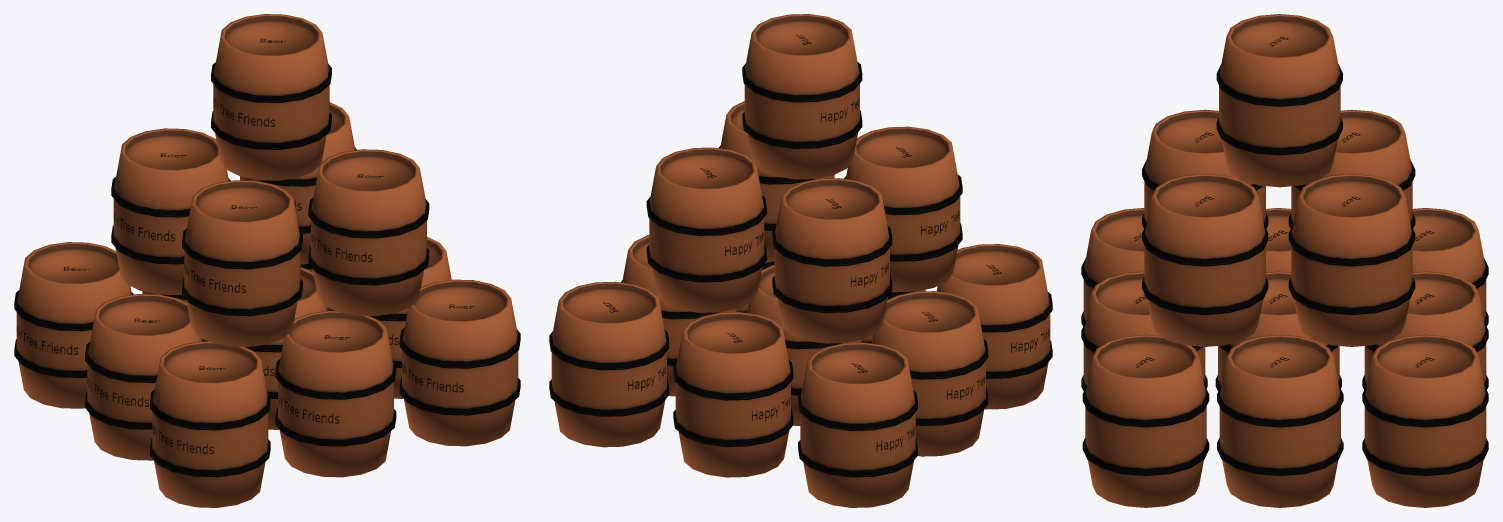
The model's file is barrel.glb.
The picture shows the model from 3 angles, left to right: view 1: azimuth 30°, elevation 25°; view 2: azimuth 150°, elevation 25°; view 3: azimuth 270°, elevation 25°; orthographic projection. The views are drawn at different scales.
Visible parts, largest first — view 1: Barrel.009_Cylinder.011, Barrel.013_Cylinder.021, Barrel.012_Cylinder.020, Barrel.006_Cylinder.008, Barrel.004_Cylinder.006, Barrel.005_Cylinder.007, Barrel.010_Cylinder.012, Barrel.007_Cylinder.009, Barrel.008_Cylinder.010, Barrel.011_Cylinder.019, Barrel_Cylinder, Barrel.003_Cylinder.005; view 2: Barrel.010_Cylinder.012, Barrel.001_Cylinder.003, Barrel.013_Cylinder.021, Barrel.002_Cylinder.004, Barrel.011_Cylinder.019, Barrel.007_Cylinder.009, Barrel.009_Cylinder.011, Barrel.008_Cylinder.010, Barrel.006_Cylinder.008, Barrel.003_Cylinder.005, Barrel_Cylinder, Barrel.012_Cylinder.020; view 3: Barrel.002_Cylinder.004, Barrel.003_Cylinder.005, Barrel.012_Cylinder.020, Barrel.013_Cylinder.021, Barrel.011_Cylinder.019, Barrel.004_Cylinder.006, Barrel.009_Cylinder.011, Barrel.001_Cylinder.003, Barrel.010_Cylinder.012, Barrel.007_Cylinder.009, Barrel.005_Cylinder.007, Barrel.006_Cylinder.008 (+2 smaller).
Boxes of the visible parts, bbox=[...] form: Barrel.009_Cylinder.011: bbox=[182, 180, 302, 346]; Barrel.013_Cylinder.021: bbox=[211, 14, 331, 180]; Barrel.012_Cylinder.020: bbox=[308, 149, 429, 315]; Barrel.006_Cylinder.008: bbox=[150, 341, 270, 507]; Barrel.004_Cylinder.006: bbox=[399, 279, 520, 446]; Barrel.005_Cylinder.007: bbox=[275, 310, 396, 477]; Barrel.010_Cylinder.012: bbox=[111, 128, 230, 294]; Barrel.007_Cylinder.009: bbox=[14, 242, 133, 408]; Barrel.008_Cylinder.010: bbox=[85, 294, 201, 460]; Barrel.011_Cylinder.019: bbox=[240, 102, 356, 264]; Barrel_Cylinder: bbox=[245, 267, 327, 429]; Barrel.003_Cylinder.005: bbox=[370, 237, 451, 398]; Barrel.010_Cylinder.012: bbox=[772, 178, 892, 343]; Barrel.001_Cylinder.003: bbox=[673, 312, 793, 477]; Barrel.013_Cylinder.021: bbox=[742, 14, 862, 179]; Barrel.002_Cylinder.004: bbox=[549, 281, 669, 447]; Barrel.011_Cylinder.019: bbox=[646, 147, 766, 312]; Barrel.007_Cylinder.009: bbox=[798, 342, 917, 507]; Barrel.009_Cylinder.011: bbox=[844, 126, 962, 292]; Barrel.008_Cylinder.010: bbox=[870, 291, 988, 456]; Barrel.006_Cylinder.008: bbox=[936, 244, 1052, 409]; Barrel.003_Cylinder.005: bbox=[621, 235, 736, 396]; Barrel_Cylinder: bbox=[745, 264, 861, 425]; Barrel.012_Cylinder.020: bbox=[718, 101, 834, 261]; Barrel.002_Cylinder.004: bbox=[1362, 334, 1488, 507]; Barrel.003_Cylinder.005: bbox=[1217, 334, 1343, 507]; Barrel.012_Cylinder.020: bbox=[1142, 173, 1268, 346]; Barrel.013_Cylinder.021: bbox=[1216, 14, 1342, 187]; Barrel.011_Cylinder.019: bbox=[1288, 173, 1415, 346]; Barrel.004_Cylinder.006: bbox=[1082, 334, 1209, 507]; Barrel.009_Cylinder.011: bbox=[1142, 109, 1268, 228]; Barrel.001_Cylinder.003: bbox=[1362, 271, 1488, 389]; Barrel.010_Cylinder.012: bbox=[1288, 109, 1415, 228]; Barrel.007_Cylinder.009: bbox=[1412, 208, 1488, 326]; Barrel.005_Cylinder.007: bbox=[1081, 271, 1207, 391]; Barrel.006_Cylinder.008: bbox=[1081, 208, 1144, 326].
Size of the model in its own units: 12.08 by 12.06 by 11.54.
1 material, 1 textured.
